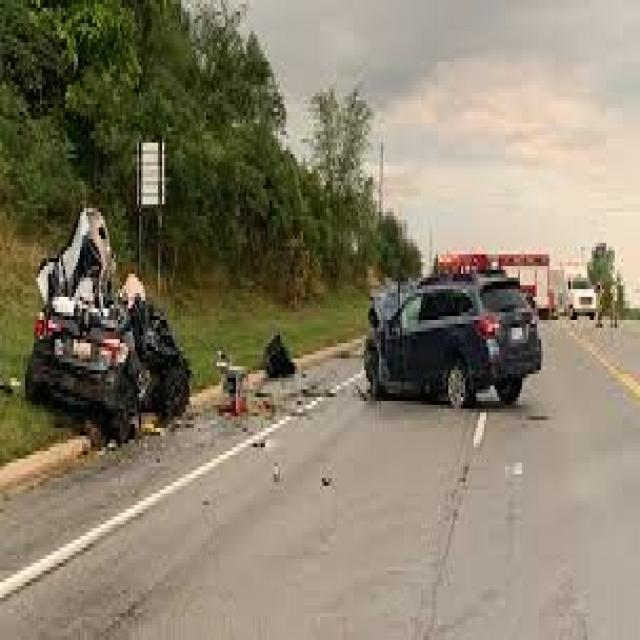accident: (14, 176, 565, 464), (26, 219, 197, 452), (345, 251, 559, 424)
